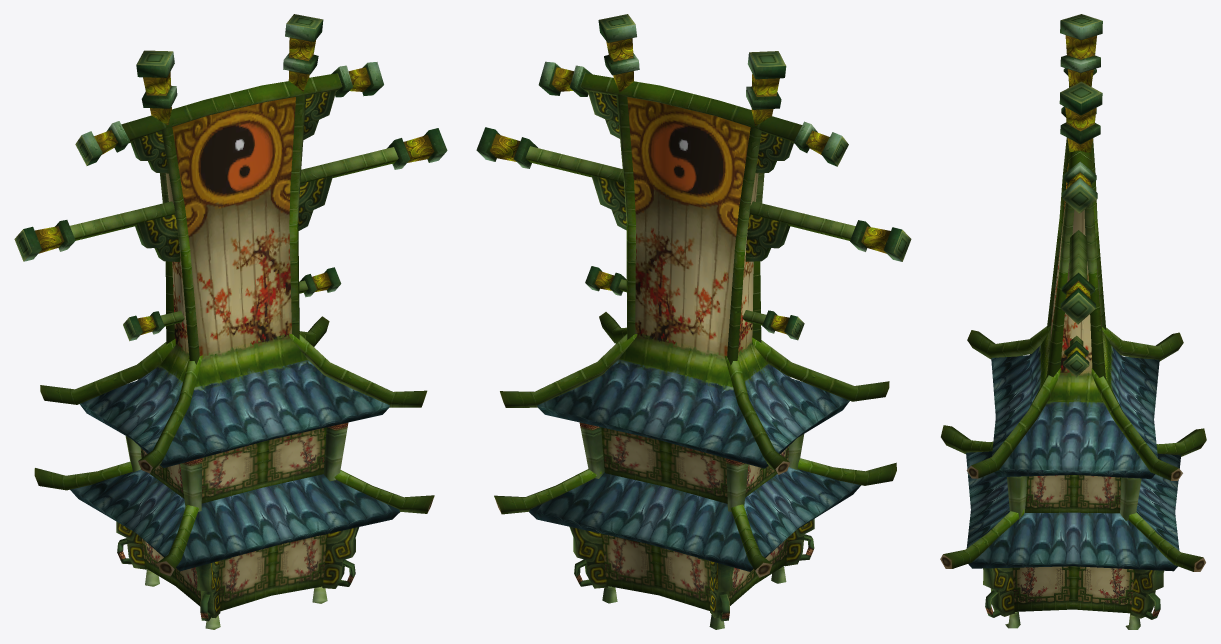
The model's file is environment_building_qingzhufangwu_001_a.FBX.
3 views of the same model, side by side, from view 1: azimuth 30°, elevation 25°; view 2: azimuth 150°, elevation 25°; view 3: azimuth 270°, elevation 25° (orthographic).
Parts seen in each view (by area): view 1: environment_building_qingzhufangwu_001_J, environment_building_qingzhufangwu_001_a, environment_building_qingzhufangwu_001_d, environment_building_qingzhufangwu_001_F, environment_building_qingzhufangwu_001_e, environment_building_qingzhufangwu_001_K, environment_building_qingzhufangwu_001_b, environment_building_qingzhufangwu_001_c; view 2: environment_building_qingzhufangwu_001_J, environment_building_qingzhufangwu_001_a, environment_building_qingzhufangwu_001_d, environment_building_qingzhufangwu_001_F, environment_building_qingzhufangwu_001_K, environment_building_qingzhufangwu_001_e, environment_building_qingzhufangwu_001_b, environment_building_qingzhufangwu_001_c; view 3: environment_building_qingzhufangwu_001_a, environment_building_qingzhufangwu_001_d, environment_building_qingzhufangwu_001_b, environment_building_qingzhufangwu_001_e, environment_building_qingzhufangwu_001_F, environment_building_qingzhufangwu_001_K, environment_building_qingzhufangwu_001_c, environment_building_qingzhufangwu_001_J.
Part boxes in pixels (x1=…): environment_building_qingzhufangwu_001_J: x1=160, y1=97, x2=306, y2=386; environment_building_qingzhufangwu_001_a: x1=79, y1=359, x2=389, y2=467; environment_building_qingzhufangwu_001_d: x1=70, y1=469, x2=400, y2=571; environment_building_qingzhufangwu_001_F: x1=14, y1=14, x2=447, y2=341; environment_building_qingzhufangwu_001_e: x1=140, y1=427, x2=327, y2=611; environment_building_qingzhufangwu_001_K: x1=70, y1=73, x2=398, y2=364; environment_building_qingzhufangwu_001_b: x1=34, y1=316, x2=434, y2=569; environment_building_qingzhufangwu_001_c: x1=116, y1=422, x2=434, y2=629; environment_building_qingzhufangwu_001_J: x1=619, y1=97, x2=767, y2=386; environment_building_qingzhufangwu_001_a: x1=537, y1=358, x2=849, y2=468; environment_building_qingzhufangwu_001_d: x1=529, y1=467, x2=860, y2=571; environment_building_qingzhufangwu_001_F: x1=476, y1=14, x2=911, y2=340; environment_building_qingzhufangwu_001_K: x1=525, y1=73, x2=855, y2=365; environment_building_qingzhufangwu_001_e: x1=601, y1=427, x2=788, y2=610; environment_building_qingzhufangwu_001_b: x1=494, y1=312, x2=896, y2=570; environment_building_qingzhufangwu_001_c: x1=495, y1=422, x2=814, y2=629; environment_building_qingzhufangwu_001_a: x1=991, y1=345, x2=1159, y2=478; environment_building_qingzhufangwu_001_d: x1=966, y1=451, x2=1181, y2=571; environment_building_qingzhufangwu_001_b: x1=941, y1=326, x2=1206, y2=571; environment_building_qingzhufangwu_001_e: x1=1012, y1=400, x2=1134, y2=613; environment_building_qingzhufangwu_001_F: x1=1059, y1=14, x2=1102, y2=377; environment_building_qingzhufangwu_001_K: x1=1046, y1=80, x2=1106, y2=379; environment_building_qingzhufangwu_001_c: x1=940, y1=466, x2=1205, y2=629; environment_building_qingzhufangwu_001_J: x1=1041, y1=163, x2=1110, y2=400.
Bounding box in the file's own units: 353 × 449 × 199.
Materials: 5 (5 with a texture image).
